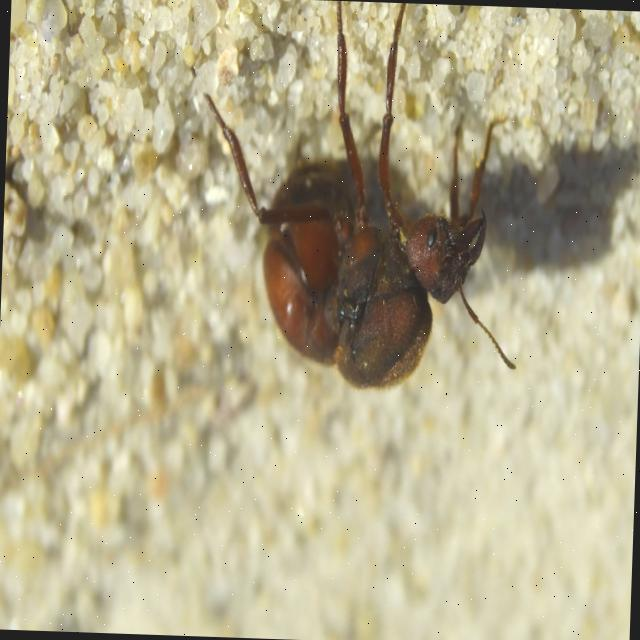Alive-Female-Dealate: (178, 0, 529, 398)
